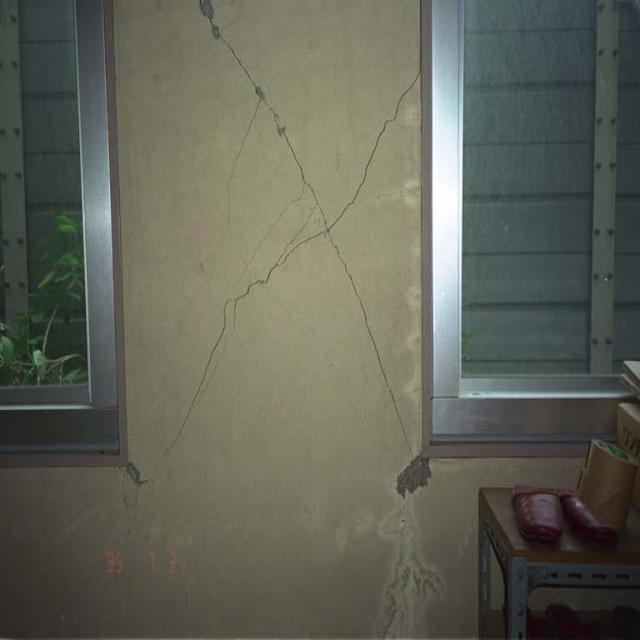crack: (146, 227, 328, 477), (216, 35, 326, 245), (329, 231, 415, 456), (329, 69, 423, 225), (237, 184, 305, 277)
